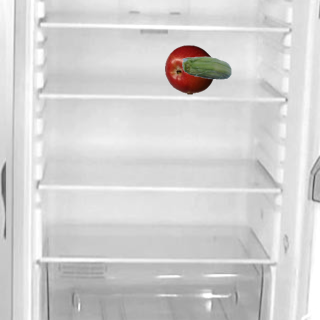Apple Braeburn: (164, 44, 214, 94)
Corn Husk: (181, 44, 231, 94)
